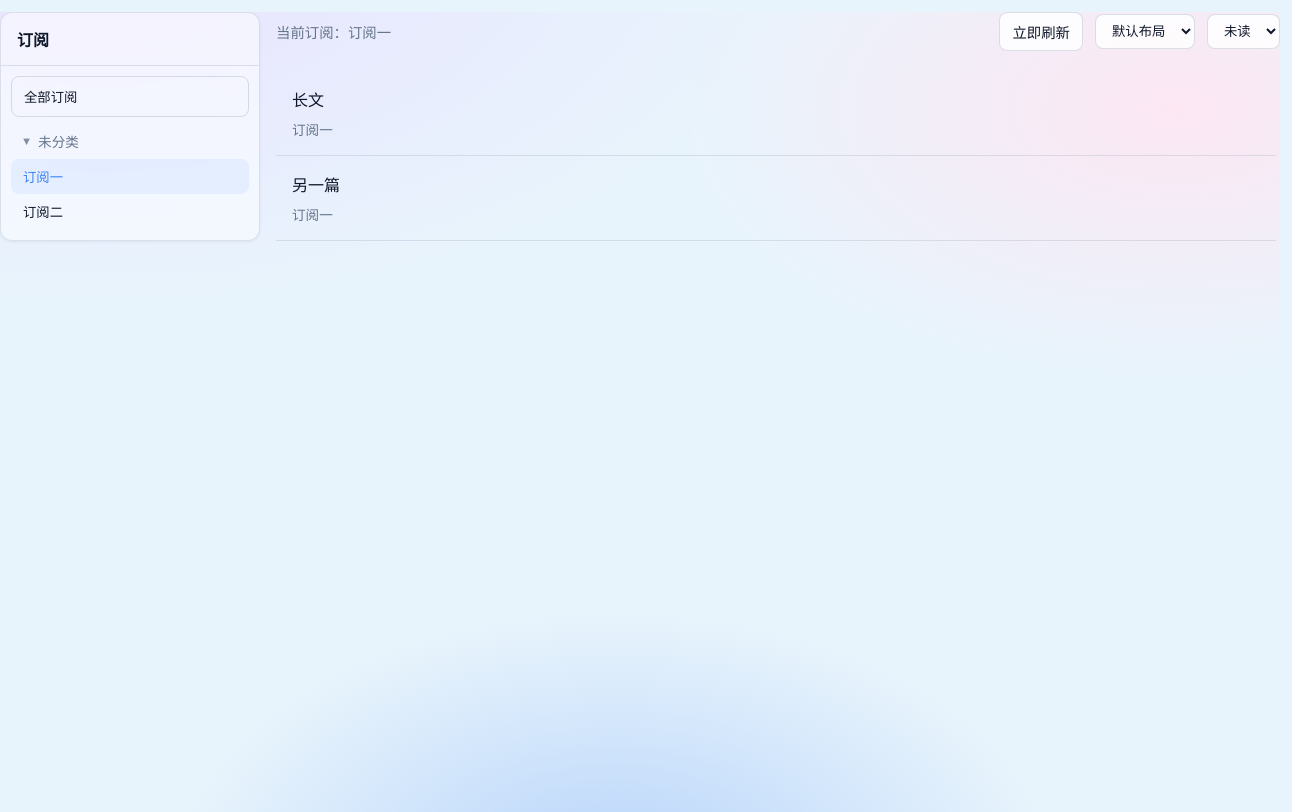
Test case: 刷新订阅后重新请求当前选中文章详情
Click the button "长文 订阅一": point(308, 100) [276, 71, 1276, 155]
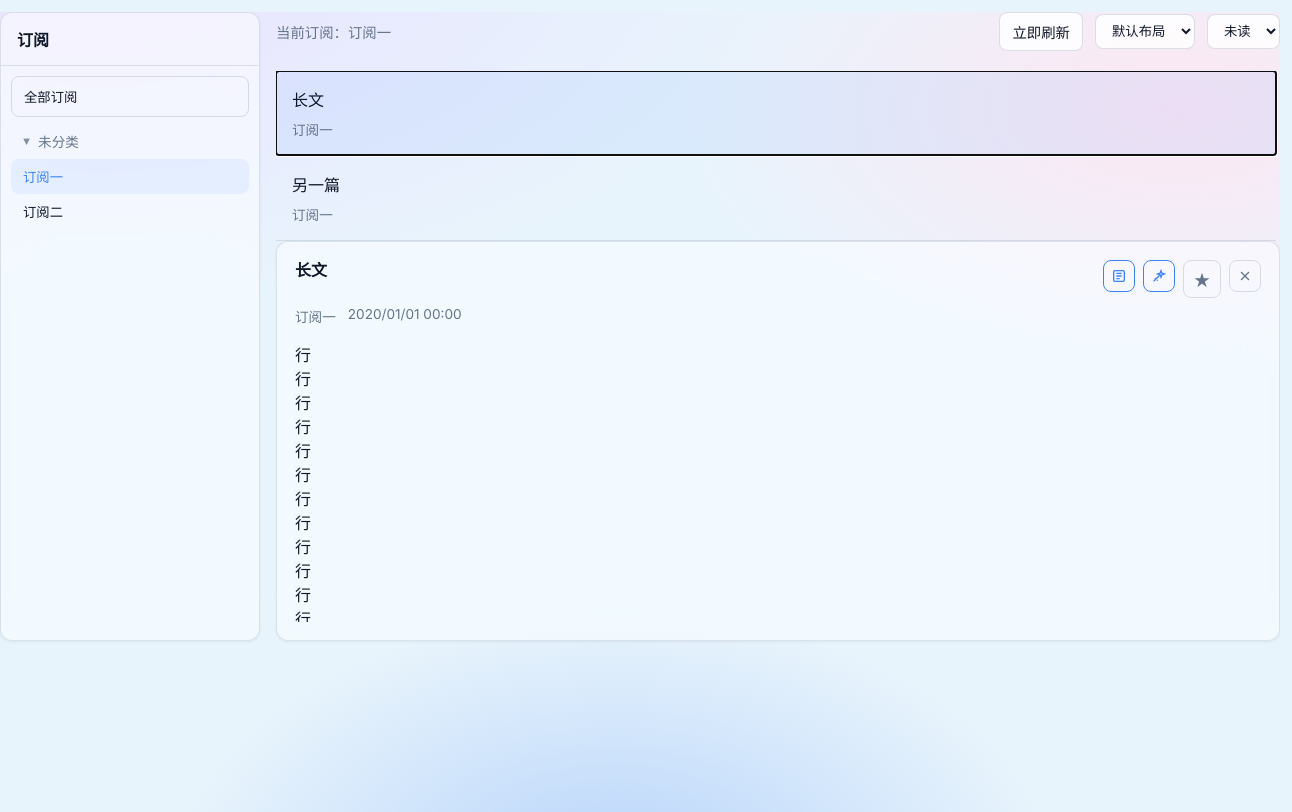
Result: the element with class "article-detail-content" shows "行" at [295, 345, 311, 365]
Click the button with aria-label "立即刷新当前订阅": point(1041, 32) [999, 12, 1083, 51]
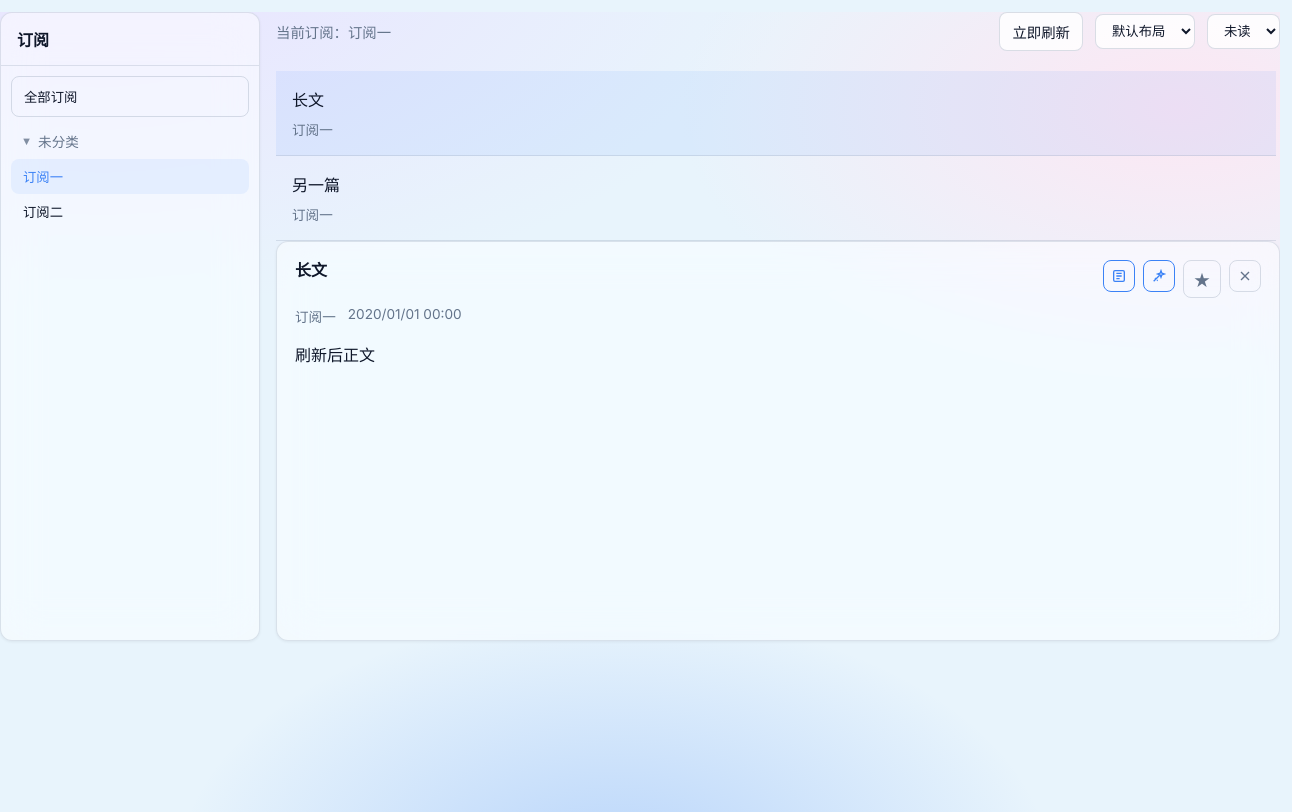
Result: the element with class "article-detail-content" reads "刷新后正文" at [295, 345, 375, 365]
